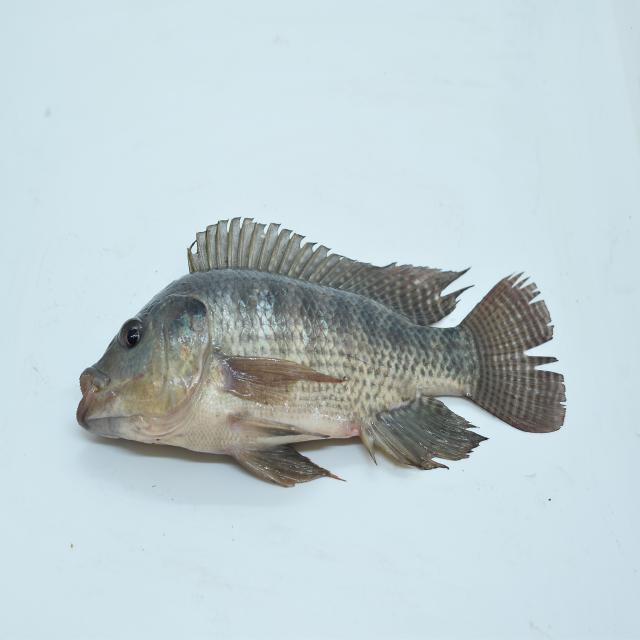Healthy Fish: (75, 219, 570, 493)
